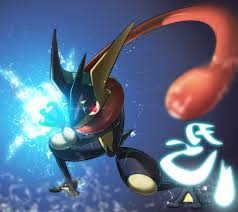greninja: (38, 6, 236, 207)
